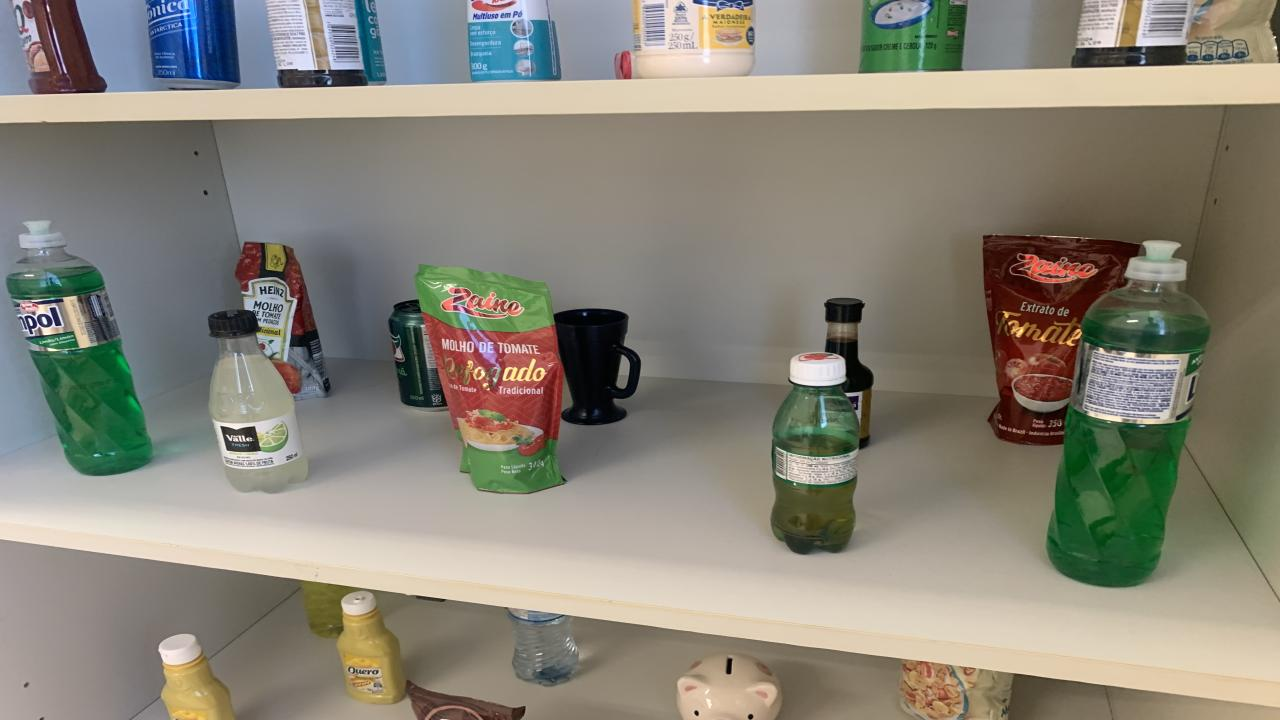Cleaner-Cleanup_Items: (465, 0, 560, 82)
Coffee-Pantry_Items: (405, 681, 525, 720)
Detergent-Cleanup_Items: (1048, 242, 1210, 585), (8, 221, 152, 474), (300, 581, 358, 638)
English_Sauce-Pantry_Items: (265, 0, 368, 88), (1072, 0, 1192, 68), (825, 298, 872, 448)
Flakes-Snacks: (900, 660, 1012, 720), (1185, 0, 1278, 66)
Guarana-Drinks: (770, 352, 860, 553)
Guarana_Can-Drinks: (388, 300, 445, 409)
Ketchup-Pantry_Items: (10, 0, 108, 94)
Mayonnaise-Pantry_Items: (625, 0, 755, 79)
Mustard-Pantry_Items: (338, 591, 405, 705), (160, 634, 235, 720)
Pig_Safe-Miscellaneous: (678, 654, 782, 720)
Pringles-Snacks: (860, 0, 968, 73)
Soap-Cleanup_Items: (615, 51, 632, 79)
Soda-Drinks: (208, 309, 308, 493)
Tea-Drinks: (355, 0, 388, 84)
Tomato_Sauce-Pantry_Items: (415, 264, 565, 493), (982, 234, 1140, 444), (235, 242, 330, 399)
Tonic-Drinks: (145, 0, 240, 88)
Water_Bottle-Drinks: (508, 608, 580, 686)
